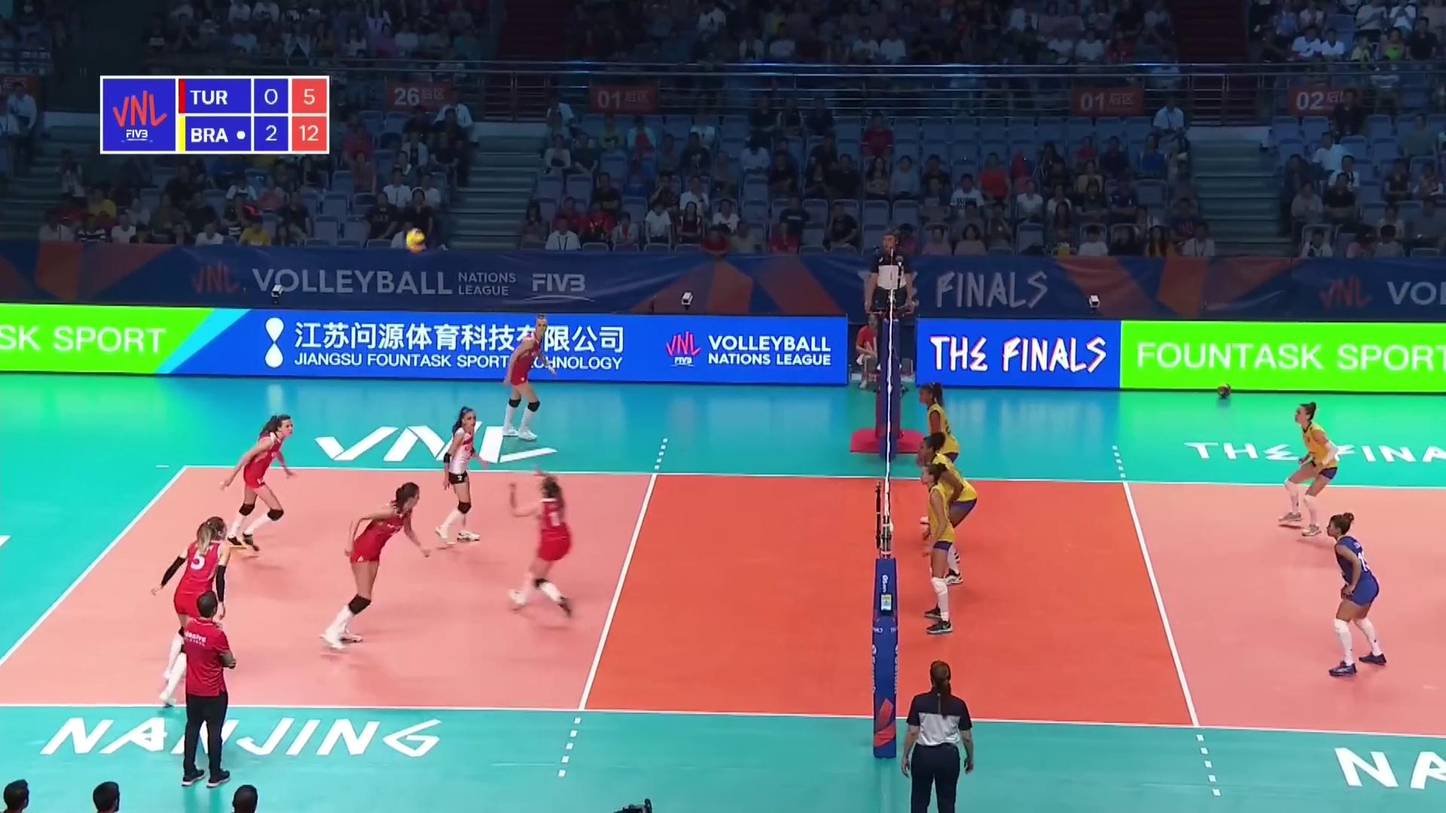player: (324, 482, 435, 651), (148, 515, 232, 706), (221, 415, 299, 556), (508, 469, 576, 616), (1322, 514, 1383, 674), (918, 433, 978, 584), (1281, 402, 1338, 537), (434, 406, 489, 545), (503, 316, 554, 442), (920, 463, 955, 636), (917, 383, 959, 525)
refree: (901, 664, 973, 813), (865, 231, 913, 367)
